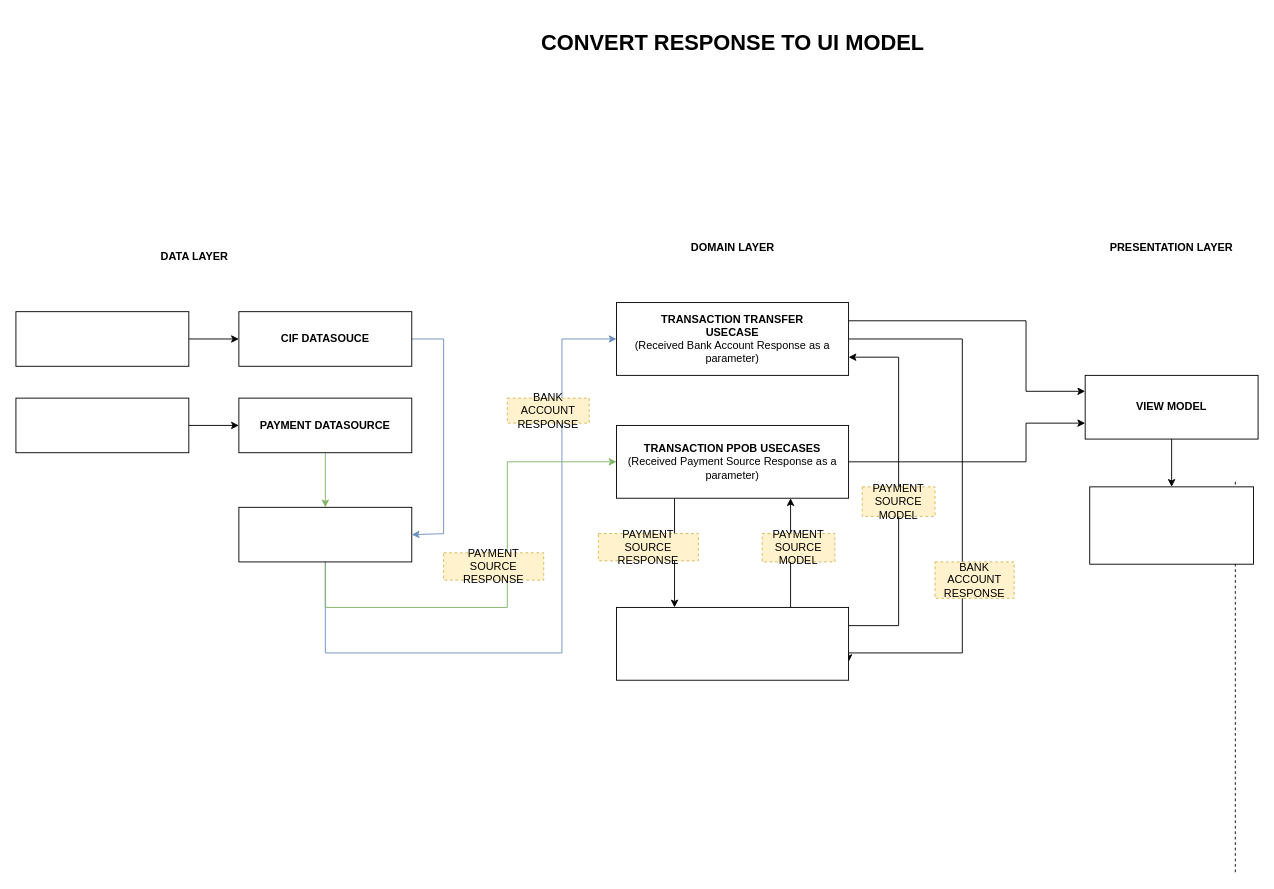
Some shapes in this 1274 by 889 pixel diagram are drawn without their labels. Each missing label, with the box of its shape:
CONFIRMATION TRANSACTION BOTTOMSHEET: (1089, 486, 1254, 564)
GET MULTIPLE BANK ACCOUNTS API: (15, 311, 189, 366)
GET PAYMENT SOURCES API: (15, 397, 189, 453)
PAYMENT SOURCE MODEL (Convert Response to Model): (616, 607, 849, 680)
PAYMENT SOURCE REPOSITORY: (238, 506, 412, 562)
